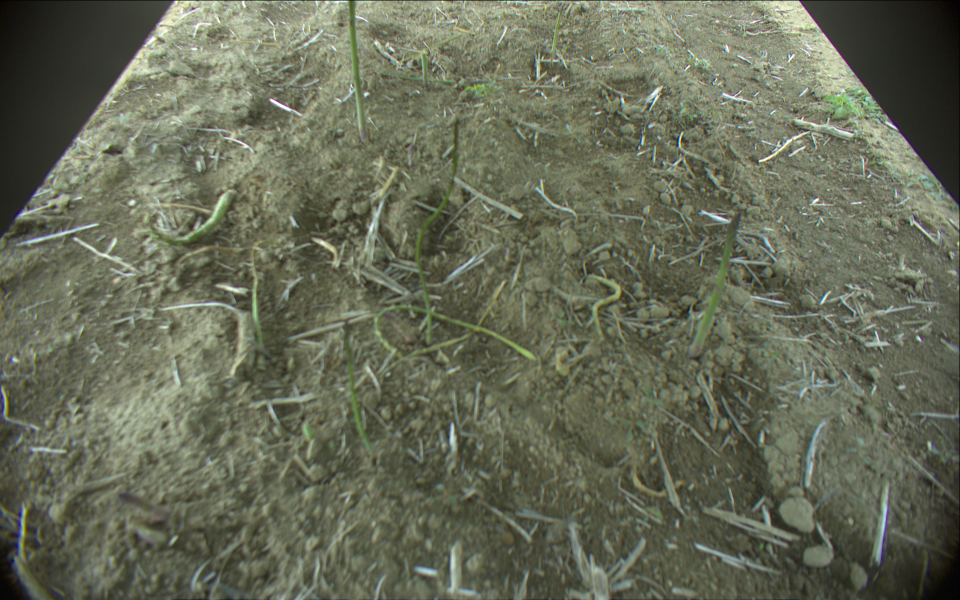aspa: (368, 303, 541, 365), (419, 118, 463, 344), (683, 209, 742, 361), (146, 188, 238, 247), (340, 322, 378, 453), (344, 1, 374, 142), (402, 30, 474, 64), (247, 242, 268, 356), (591, 273, 621, 336), (547, 1, 567, 59), (381, 72, 455, 86), (421, 49, 432, 89)
